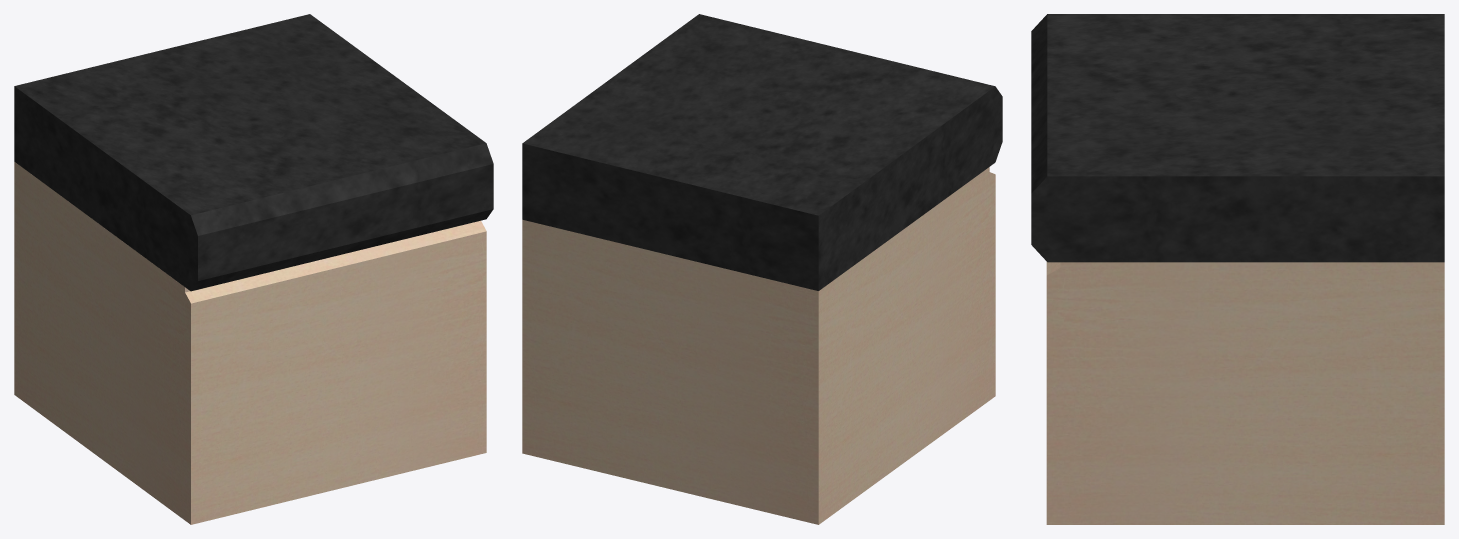
The model's file is top_mid.FBX.
3 views of the same model, side by side, from view 1: azimuth 30°, elevation 25°; view 2: azimuth 150°, elevation 25°; view 3: azimuth 270°, elevation 25° (orthographic). The views are drawn at different scales.
Parts seen in each view (by area): view 1: top_mid; view 2: top_mid; view 3: top_mid.
Boxes of the visible parts, x1,y1,x2,y2 form: top_mid: (14,14,493,524); top_mid: (522,14,1002,524); top_mid: (1031,14,1444,524).
Bounding box in the file's own units: 1 × 1.08 × 1.
1 material, 1 textured.
